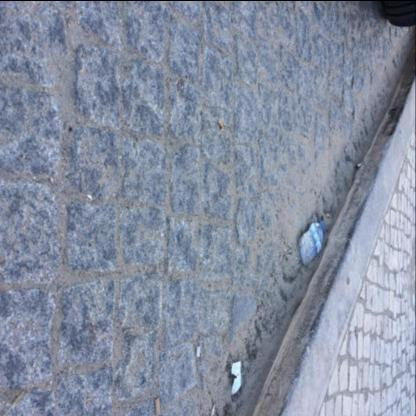Bottle cap: (299, 221, 326, 265)
Cigarette: (155, 396, 161, 414), (197, 346, 201, 356), (356, 163, 362, 167), (327, 212, 331, 216)
Other plastic: (232, 361, 241, 394)
